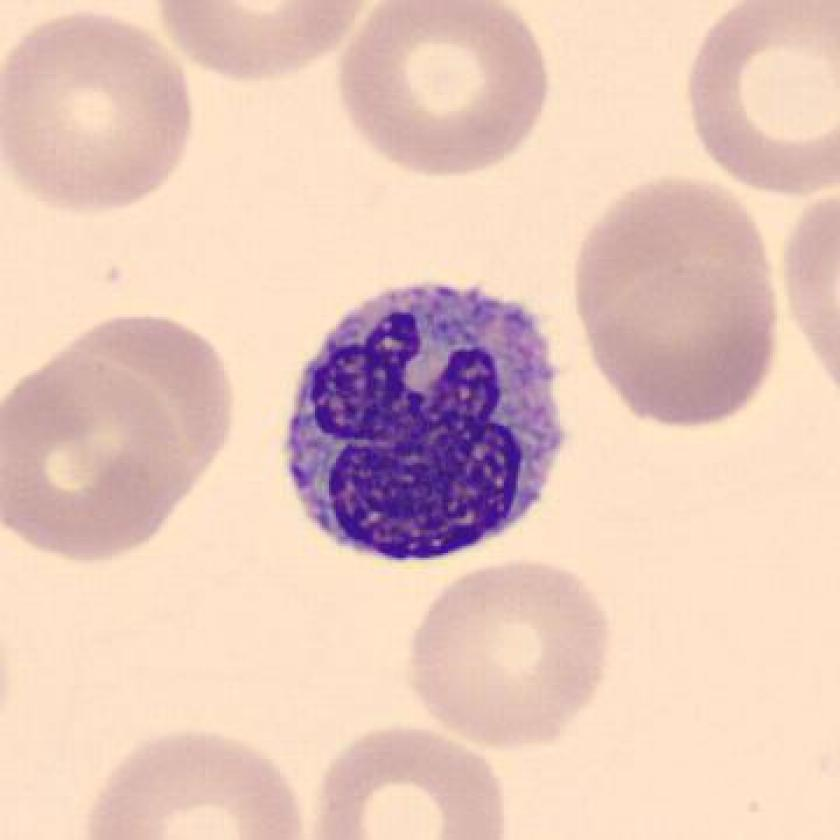monocyte: (267, 270, 582, 573)
